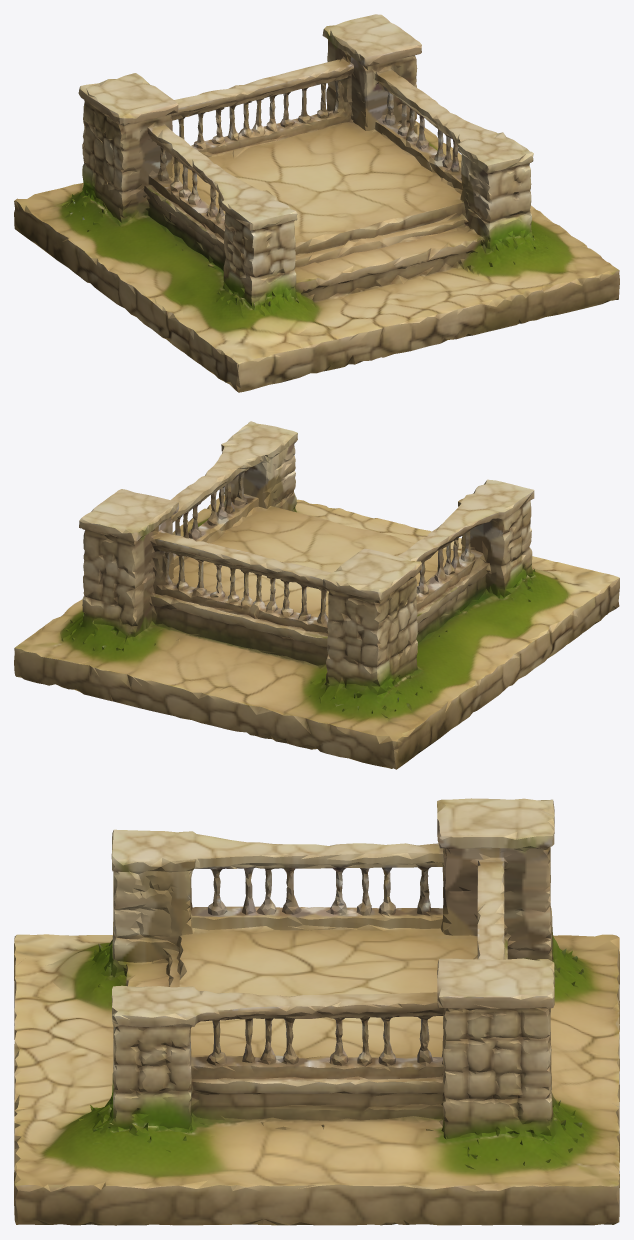
File: stone_bridge_platform.glb
3 views of the same model, one above another, from view 1: azimuth 30°, elevation 25°; view 2: azimuth 150°, elevation 25°; view 3: azimuth 270°, elevation 25° (orthographic). The views are drawn at different scales.
Visible parts, largest first — view 1: stone_bridge_platform; view 2: stone_bridge_platform; view 3: stone_bridge_platform.
Part boxes in pixels (<box>): stone_bridge_platform: <box>14,14,619,392</box>; stone_bridge_platform: <box>14,421,619,769</box>; stone_bridge_platform: <box>14,798,619,1225</box>.
Bounding box in the file's own units: 1.85 × 0.6935 × 1.87.
Materials: 1 (1 with a texture image).
